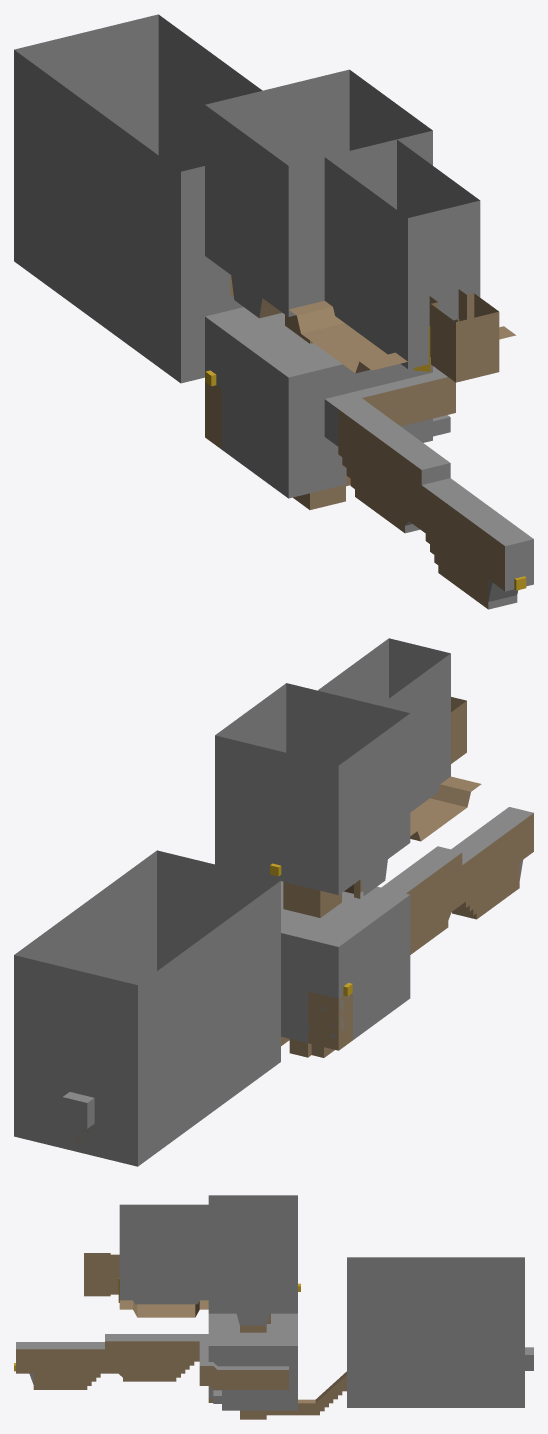
The model's file is WaterTempleRedux.fbx.
3 views of the same model, one above another, from view 1: azimuth 30°, elevation 25°; view 2: azimuth 150°, elevation 25°; view 3: azimuth 270°, elevation 25° (orthographic). The views are drawn at different scales.
Parts seen in each view (by area): view 1: WaterTemple; view 2: WaterTemple; view 3: WaterTemple.
Boxes of the visible parts, left/top/right/bottom form: WaterTemple: left=14, top=14, right=533, bottom=609; WaterTemple: left=14, top=638, right=533, bottom=1166; WaterTemple: left=14, top=1195, right=533, bottom=1419.
Size of the model in its own units: 2370 by 5000 by 11670.
